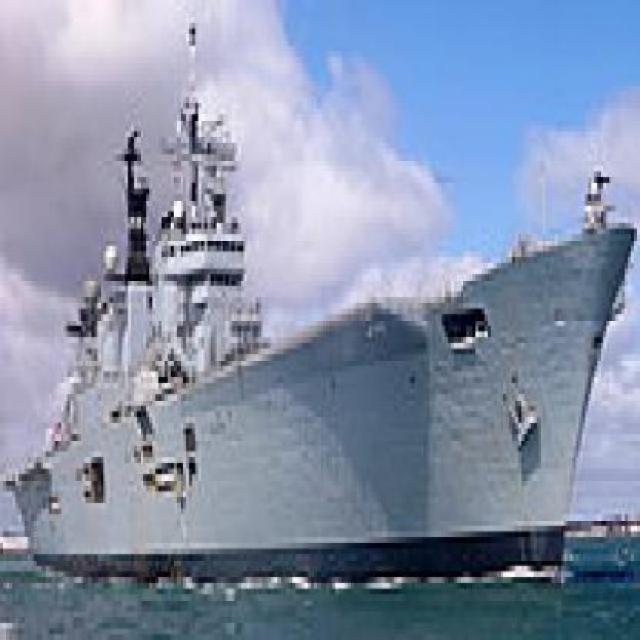warship2: (1, 41, 604, 578)
